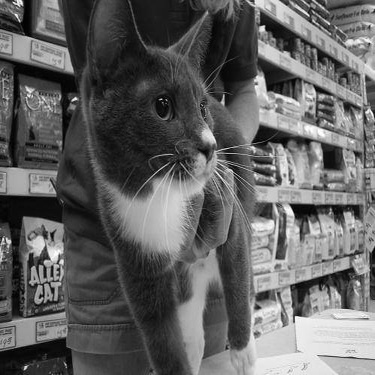cat: (77, 3, 257, 371)
